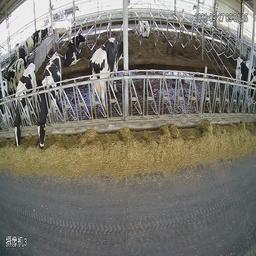cow: (37, 48, 62, 152), (91, 37, 123, 114), (15, 62, 36, 148), (65, 28, 90, 65), (26, 24, 50, 54), (51, 15, 72, 39), (7, 58, 23, 87), (13, 41, 29, 65), (137, 14, 153, 38)
